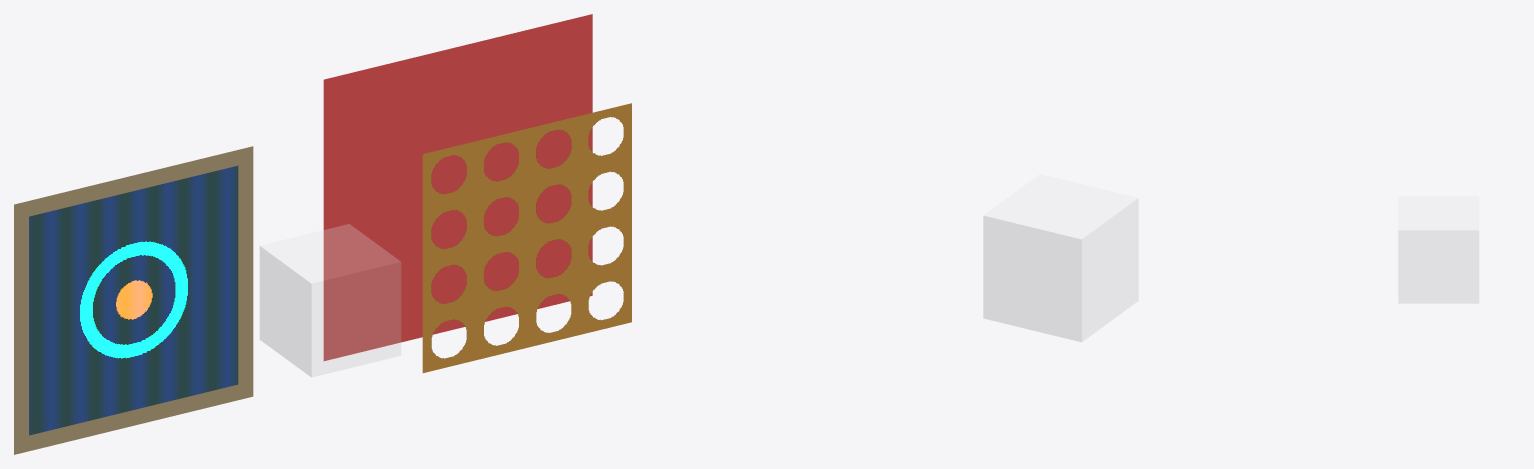
The model's file is pbr_showcase.gltf.
The picture shows the model from 3 angles, left to right: view 1: azimuth 30°, elevation 25°; view 2: azimuth 150°, elevation 25°; view 3: azimuth 270°, elevation 25°; orthographic projection. The views are drawn at different scales.
Parts seen in each view (by area): view 1: Node_PBRPanel, Node_BackingWall, Node_AlphaGrille, Node_GlassCube; view 2: Node_GlassCube; view 3: Node_GlassCube.
Part boxes in pixels (bbox=[...]): Node_PBRPanel: bbox=[14, 146, 253, 454]; Node_BackingWall: bbox=[323, 14, 592, 361]; Node_AlphaGrille: bbox=[422, 103, 631, 372]; Node_GlassCube: bbox=[260, 224, 400, 376]; Node_GlassCube: bbox=[983, 174, 1138, 341]; Node_GlassCube: bbox=[1398, 196, 1478, 303].
Size of what is drawn, in the model's own units: 4.1 by 1.8 by 0.9.
Materials: 4 (2 with a texture image).
